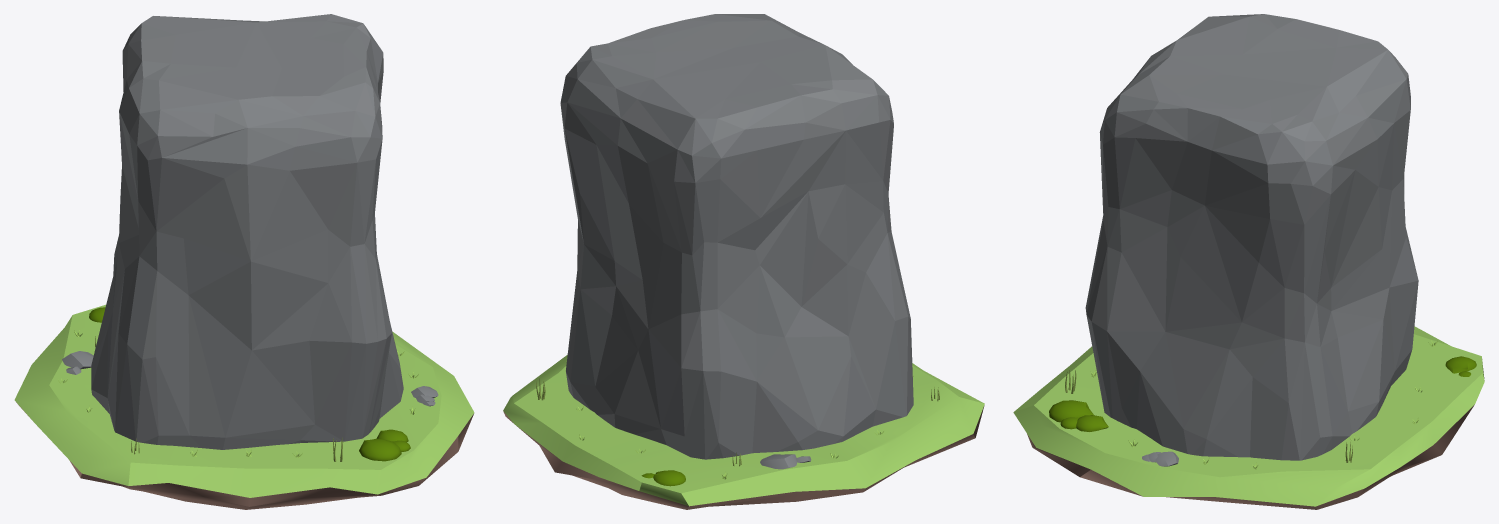
The model's file is pillar_spring.fbx.
3 views of the same model, side by side, from view 1: azimuth 30°, elevation 25°; view 2: azimuth 150°, elevation 25°; view 3: azimuth 270°, elevation 25° (orthographic). The views are drawn at different scales.
Parts seen in each view (by area): view 1: Island_Vertical_Spring_2.001; view 2: Island_Vertical_Spring_2.001; view 3: Island_Vertical_Spring_2.001.
Part boxes in pixels (x1,y1,x2,y2): Island_Vertical_Spring_2.001: (14,14,474,509); Island_Vertical_Spring_2.001: (503,14,984,509); Island_Vertical_Spring_2.001: (1013,14,1484,509).
Size of the model in its own units: 18.07 by 16.92 by 18.97.
